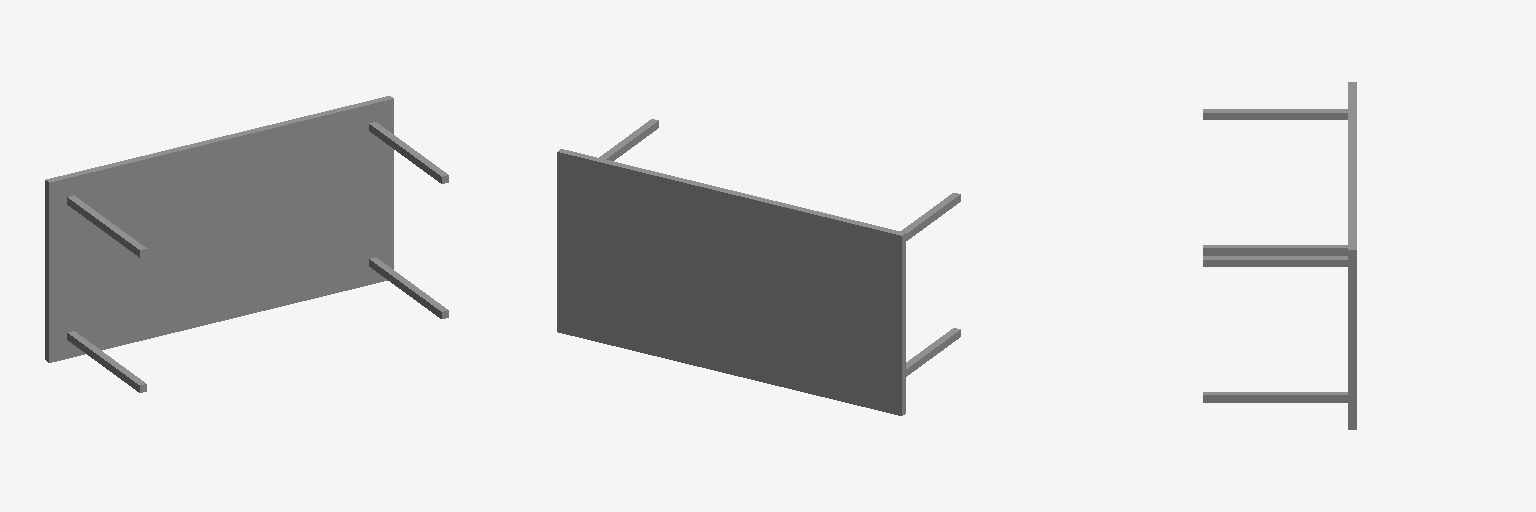
The model's file is tableFinale.obj.
3 renders of one model, left to right at view 1: azimuth 30°, elevation 25°; view 2: azimuth 150°, elevation 25°; view 3: azimuth 270°, elevation 25°, orthographic.
Visible parts, largest first — view 1: Cube.002_Cube.000; view 2: Cube.002_Cube.000; view 3: Cube.002_Cube.000.
Boxes of the visible parts, box(x1,y1,x2,y2) form: Cube.002_Cube.000: box(45, 96, 448, 392); Cube.002_Cube.000: box(557, 119, 960, 415); Cube.002_Cube.000: box(1203, 82, 1356, 429).
Bounding box in the file's own units: 96 × 48 × 37.